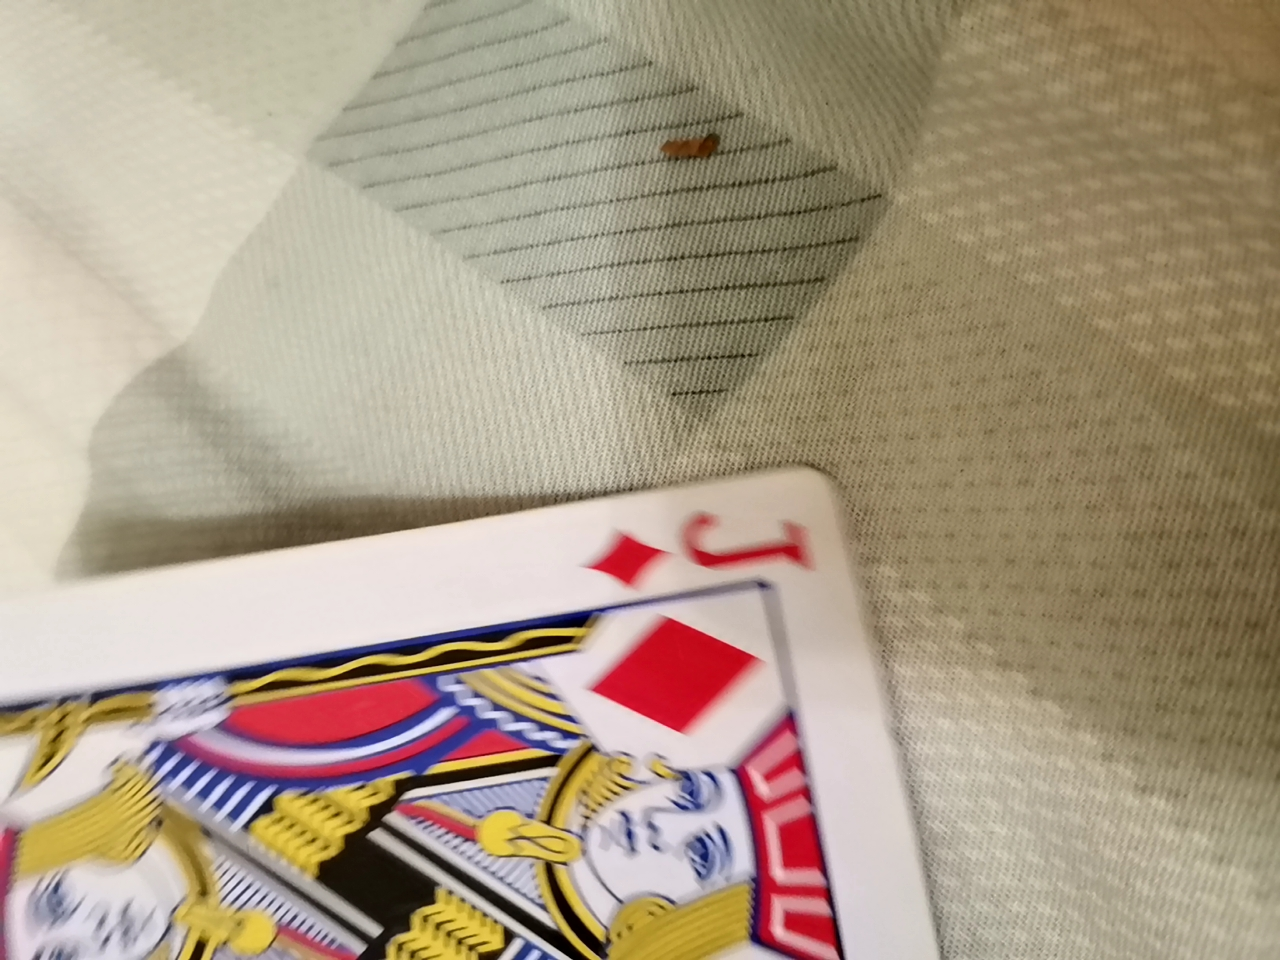fk j: (8, 464, 1024, 957)
